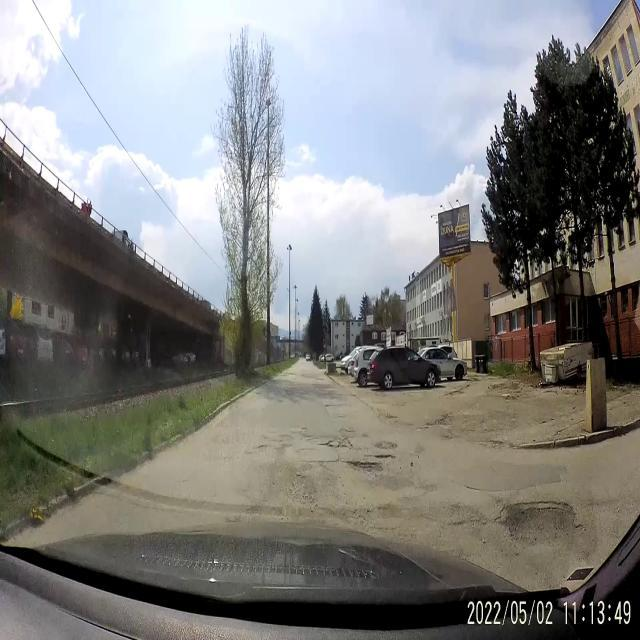Manhole: (373, 438, 399, 451)
Pothole: (492, 491, 582, 553), (346, 458, 386, 484), (320, 437, 354, 452), (418, 416, 451, 430), (372, 450, 395, 468), (254, 438, 270, 454), (462, 483, 487, 493), (338, 426, 355, 435), (386, 412, 398, 420), (362, 432, 370, 440)
